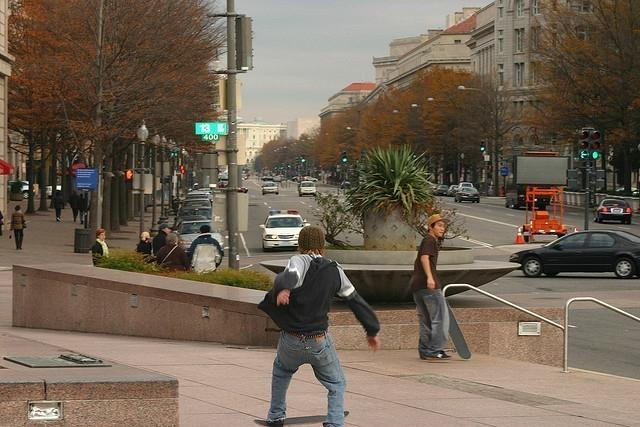car: (508, 230, 640, 278), (258, 209, 312, 252), (174, 220, 226, 256), (592, 198, 632, 225), (180, 197, 212, 220), (173, 214, 210, 232), (455, 186, 480, 204), (186, 190, 213, 202), (299, 180, 317, 196), (262, 182, 278, 196), (436, 183, 449, 194), (448, 184, 459, 196), (458, 181, 474, 188)
